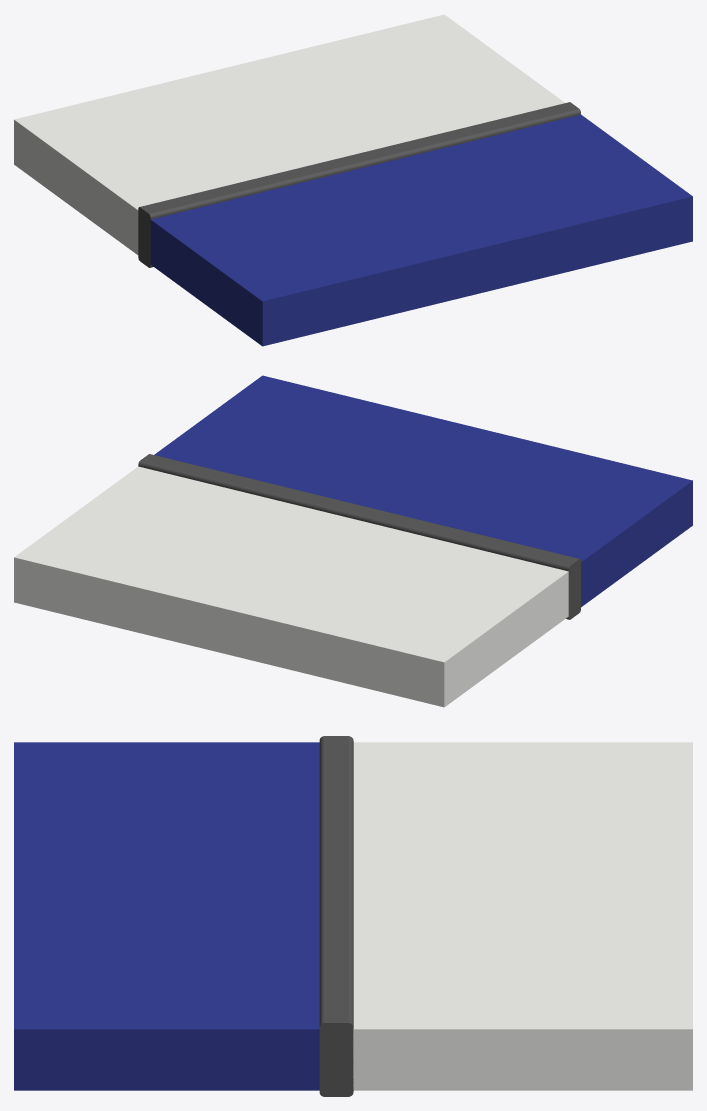
File: Wall (Horro_game) v4.fbx
3 views of the same model, one above another, from view 1: azimuth 30°, elevation 25°; view 2: azimuth 150°, elevation 25°; view 3: azimuth 270°, elevation 25° (orthographic). The views are drawn at different scales.
Visible parts, largest first — view 1: Body2, Body1, Body3; view 2: Body1, Body2, Body3; view 3: Body1, Body2, Body3.
Part boxes in pixels (x1,y1,x2,y2): Body2: [150, 114, 692, 346]; Body1: [14, 14, 564, 254]; Body3: [138, 102, 580, 267]; Body1: [14, 466, 568, 707]; Body2: [154, 375, 692, 607]; Body3: [138, 454, 580, 619]; Body1: [353, 742, 692, 1090]; Body2: [14, 742, 319, 1090]; Body3: [319, 736, 353, 1096].
Bounding box in the file's own units: 2000 × 240 × 2000.
